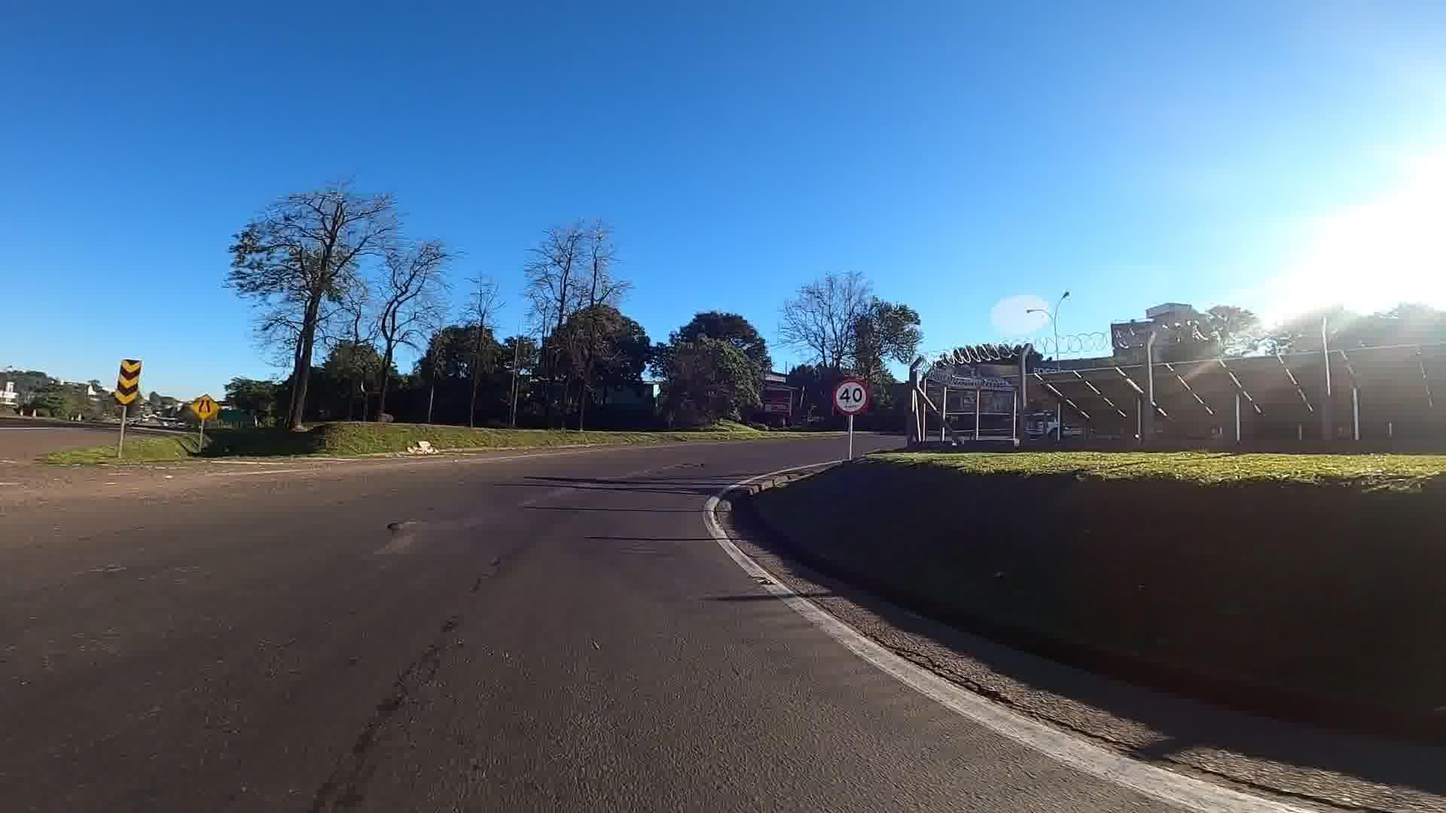R-19: (830, 378, 870, 414)
